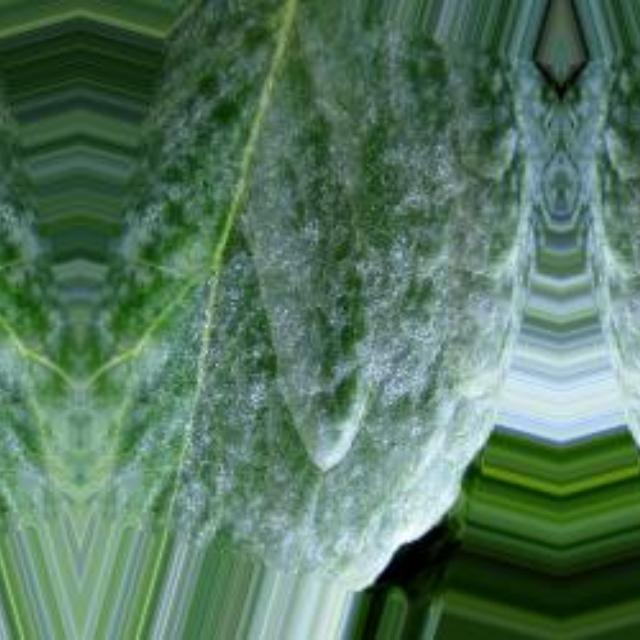Powdery_mildew: (156, 26, 498, 438), (145, 446, 445, 532), (621, 26, 640, 438), (0, 445, 13, 532), (0, 26, 2, 438)
